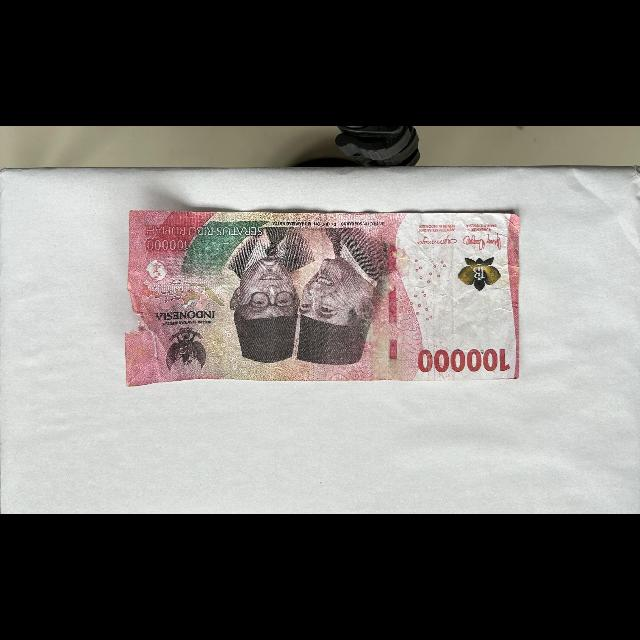Palsu-100k: (123, 208, 521, 389)
Tinta-Palsu-100k: (457, 257, 502, 292)
